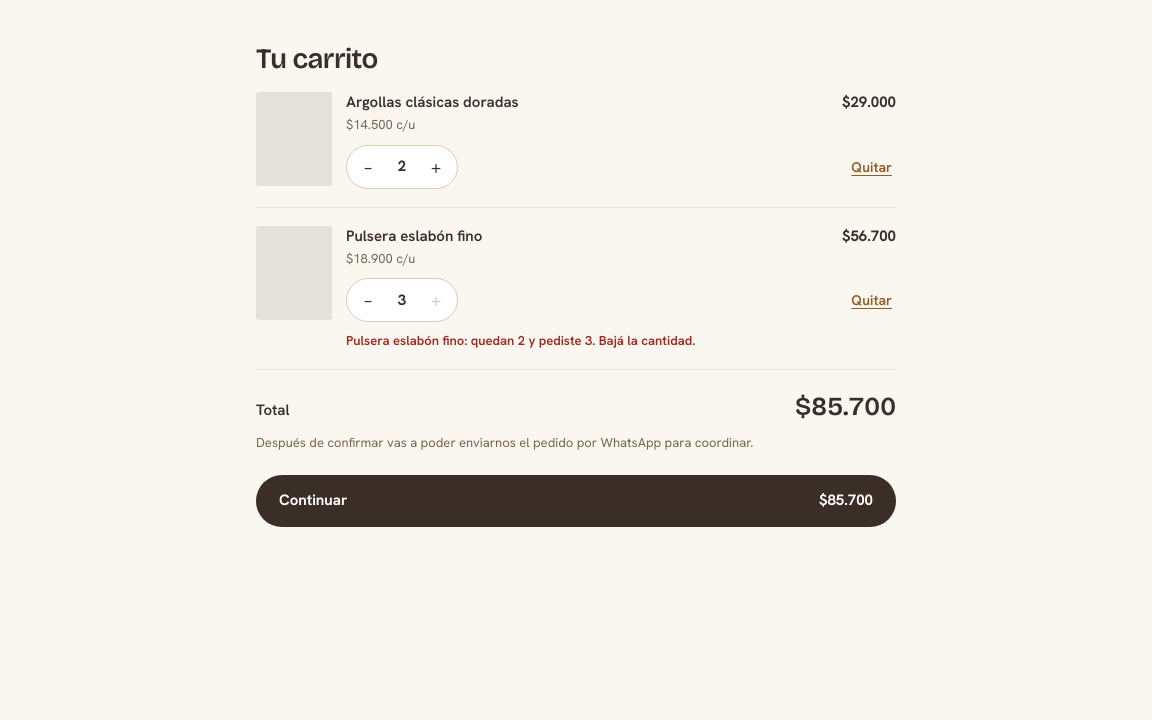
CarritoPage › muestra líneas con precios de la base, avisos de stock y quita con toast
Expected: the text "$14.500 c/u" is shown, [346,116,416,133]
Expected: the text "Pulsera eslabón fino: quedan 2 y pediste 3. Bajá la cantidad." is shown, [346,332,695,349]
What coordinates should you click on to do the following:
click the button with aria-label "Quitar Pulsera eslabón fino del carrito"
I would click on:
 (872, 300)
Its box is [847,278,896,322].
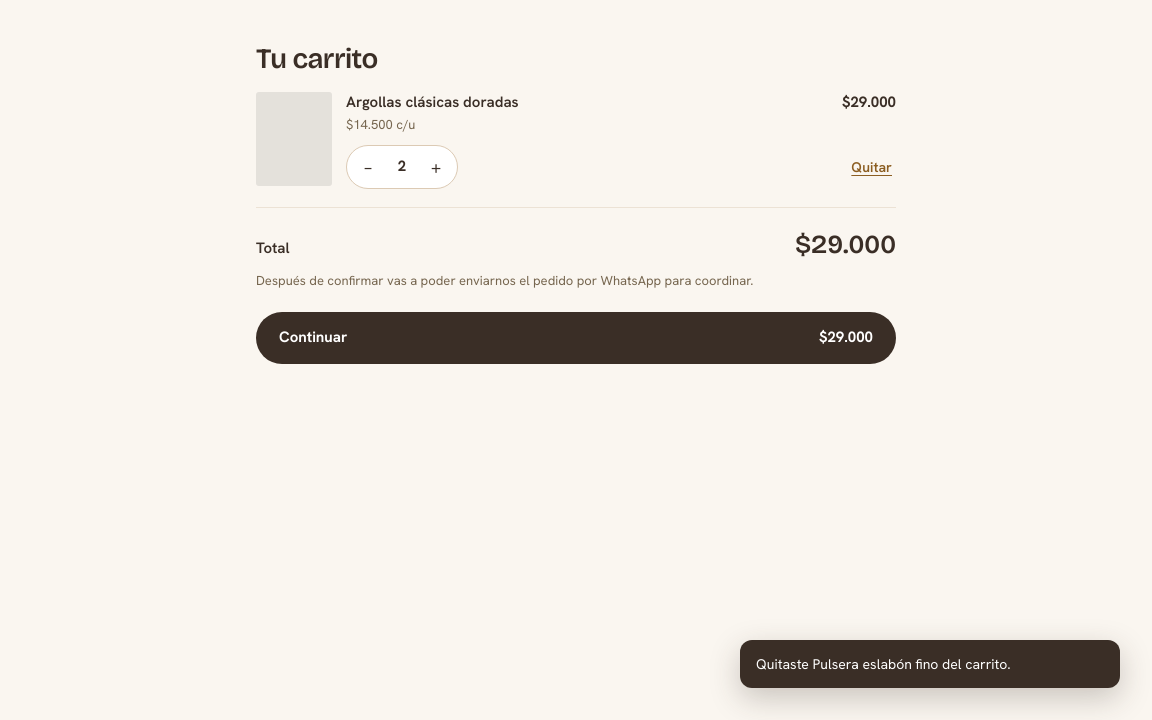
Now the message reads "Quitaste Pulsera eslabón fino del carrito.", box [756,655,1011,673]
